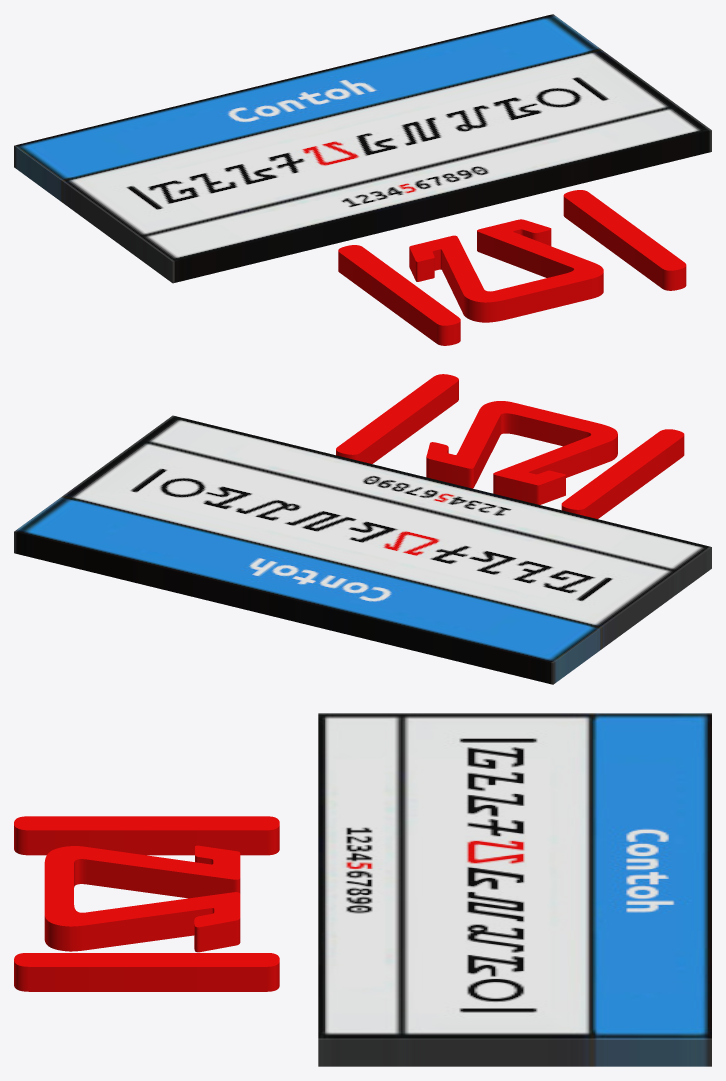
3 views of the same model, one above another, from view 1: azimuth 30°, elevation 25°; view 2: azimuth 150°, elevation 25°; view 3: azimuth 270°, elevation 25° (orthographic). The views are drawn at different scales.
Visible parts, largest first — view 1: contoh-5-Angka, Text; view 2: contoh-5-Angka, Text; view 3: contoh-5-Angka, Text.
Part boxes in pixels (bbox=[...]): contoh-5-Angka: bbox=[14, 14, 711, 283]; Text: bbox=[338, 190, 686, 345]; contoh-5-Angka: bbox=[14, 415, 711, 684]; Text: bbox=[336, 374, 684, 518]; contoh-5-Angka: bbox=[318, 713, 711, 1066]; Text: bbox=[14, 816, 279, 991].
Bounding box in the file's own units: 1.96 × 0.11 × 1.77.
2 materials, 1 textured.
